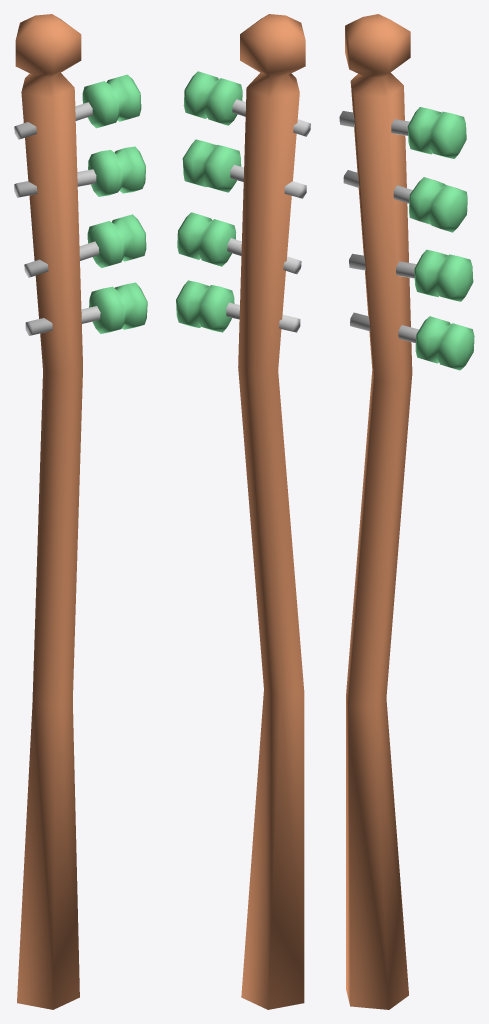
Rendered from Wire_Post_Thin.fbx.
3 views of the same model, side by side, from view 1: azimuth 30°, elevation 25°; view 2: azimuth 150°, elevation 25°; view 3: azimuth 330°, elevation 25° (orthographic).
Visible parts, largest first — view 1: wire_post_thin; view 2: wire_post_thin; view 3: wire_post_thin.
Part boxes in pixels (left/top/right/bottom): wire_post_thin: left=14, top=14, right=147, bottom=1009; wire_post_thin: left=176, top=14, right=310, bottom=1009; wire_post_thin: left=339, top=14, right=474, bottom=1009.
Bounding box in the file's own units: 90.25 × 671 × 43.47.
